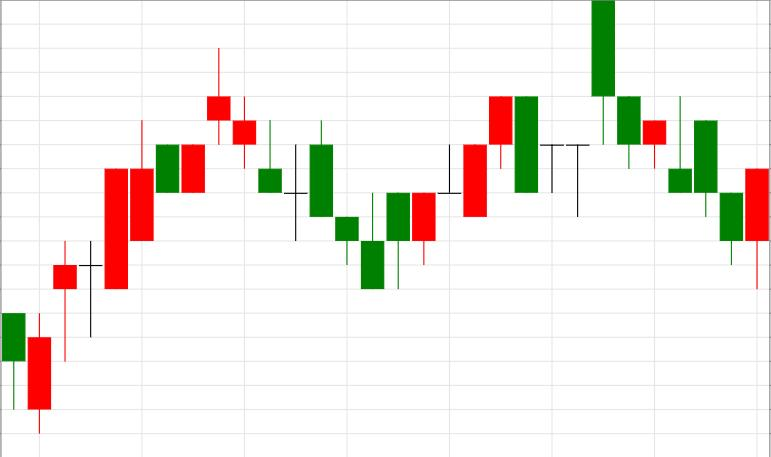bearish_engulfing_fall: (361, 96, 538, 289)
bullish_engulfing_rise: (591, 0, 769, 288)
